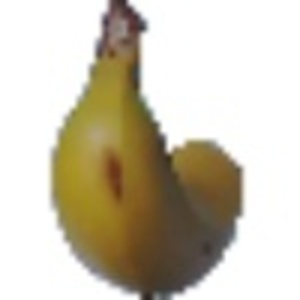banana: (43, 5, 251, 293)
